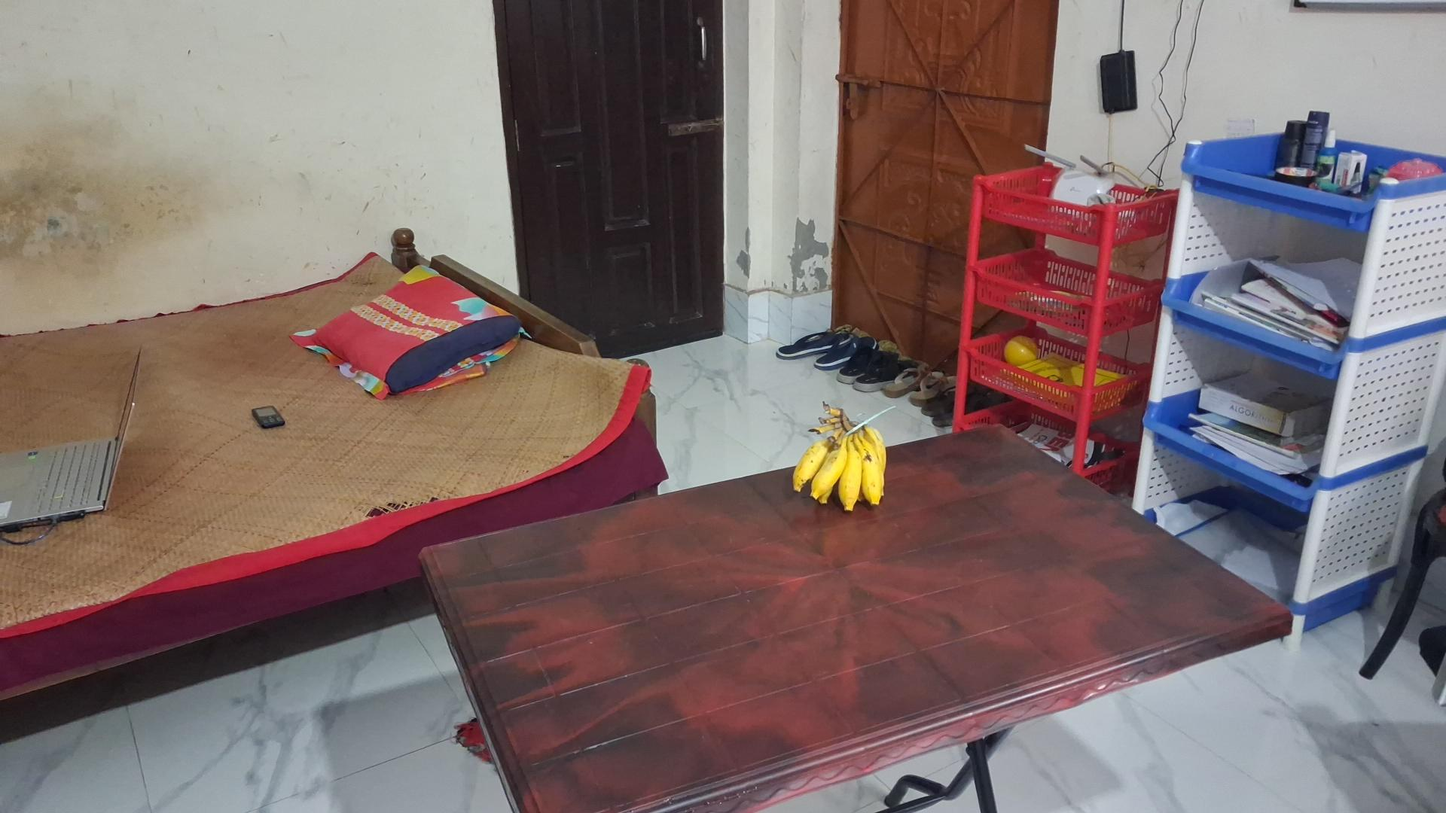Book: (1196, 369, 1336, 437)
Door: (834, 3, 1063, 394), (490, 0, 726, 350)
Food: (787, 396, 895, 517)
Footwear: (778, 328, 876, 371), (841, 349, 915, 394), (880, 372, 961, 404)
Laptop: (0, 348, 142, 532)
Phone: (249, 406, 288, 427)
Pillow: (294, 264, 524, 397)
Rack: (1131, 140, 1446, 647), (951, 160, 1180, 480)
Table: (421, 430, 1296, 813)
